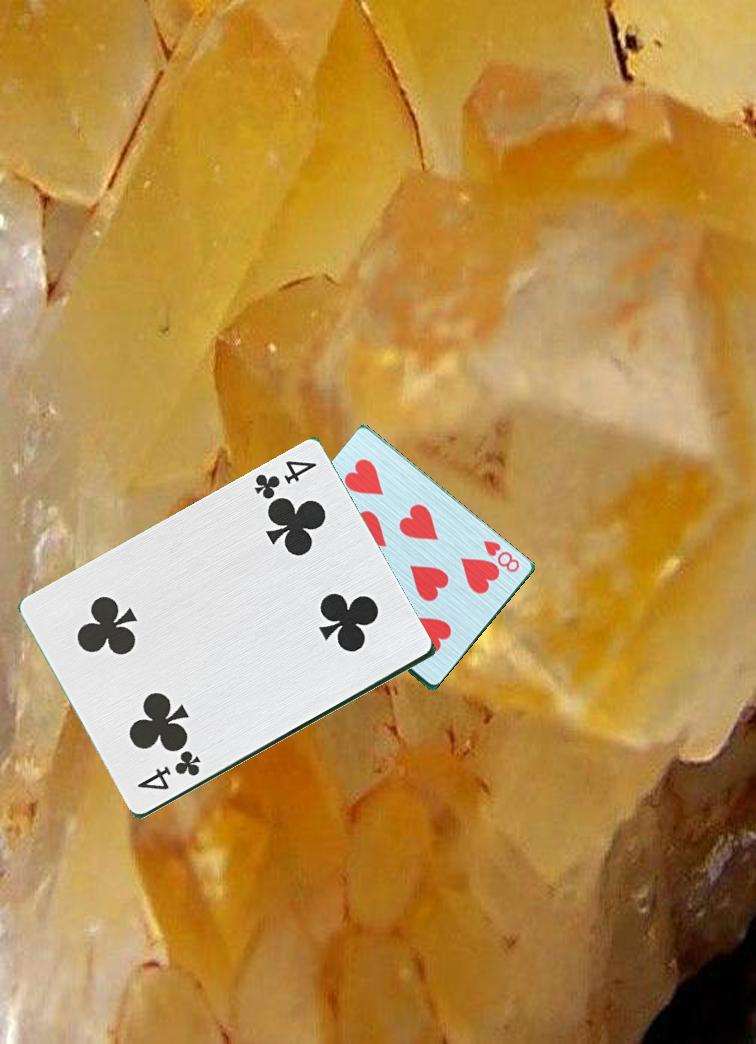4c: (133, 749, 207, 794), (250, 457, 319, 503)
8h: (480, 536, 523, 576)
